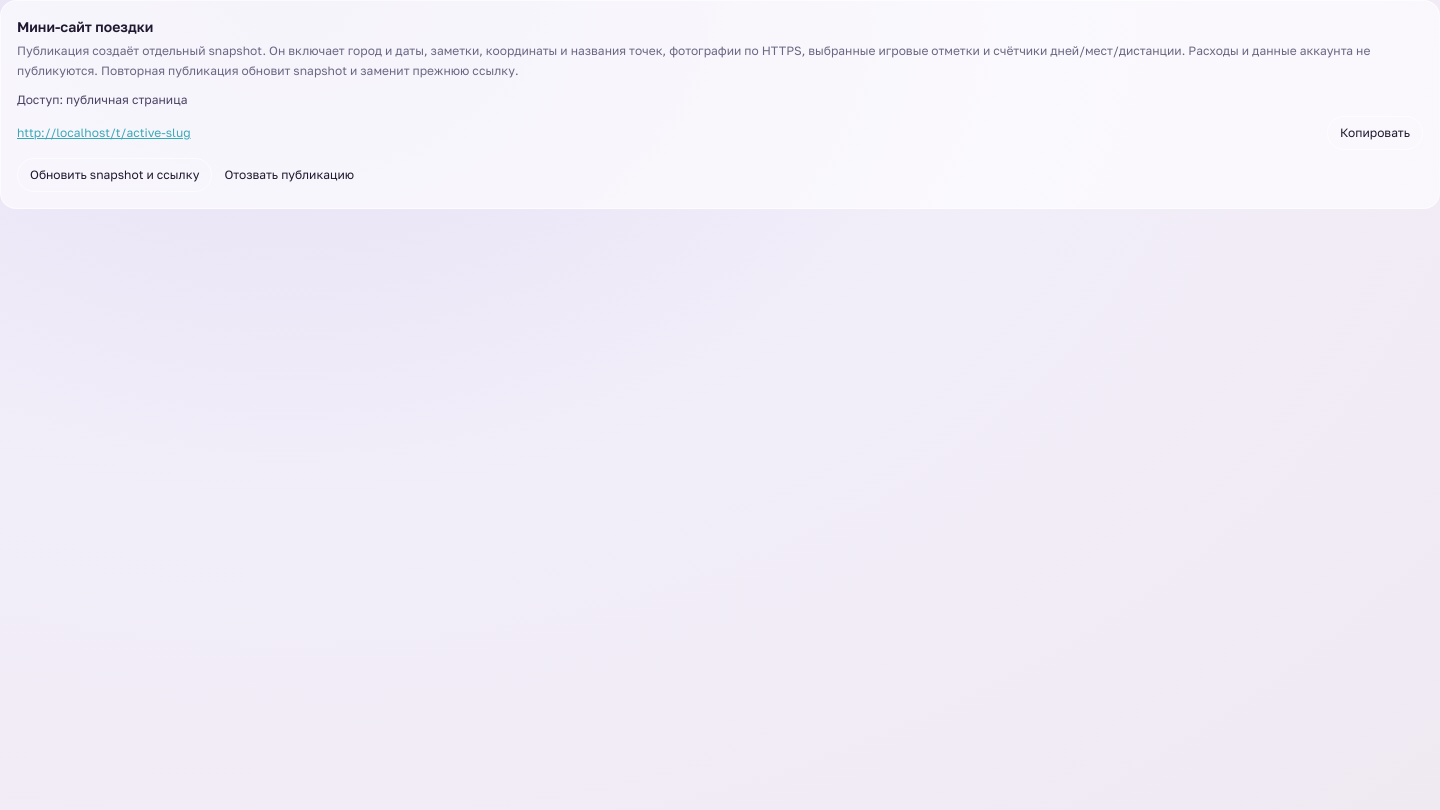
Test: TripMiniSiteControls › revokes the active public link after owner confirmation
Step 1. Click the button "Отозвать публикацию" → click(289, 175), box [212,159,366,191]
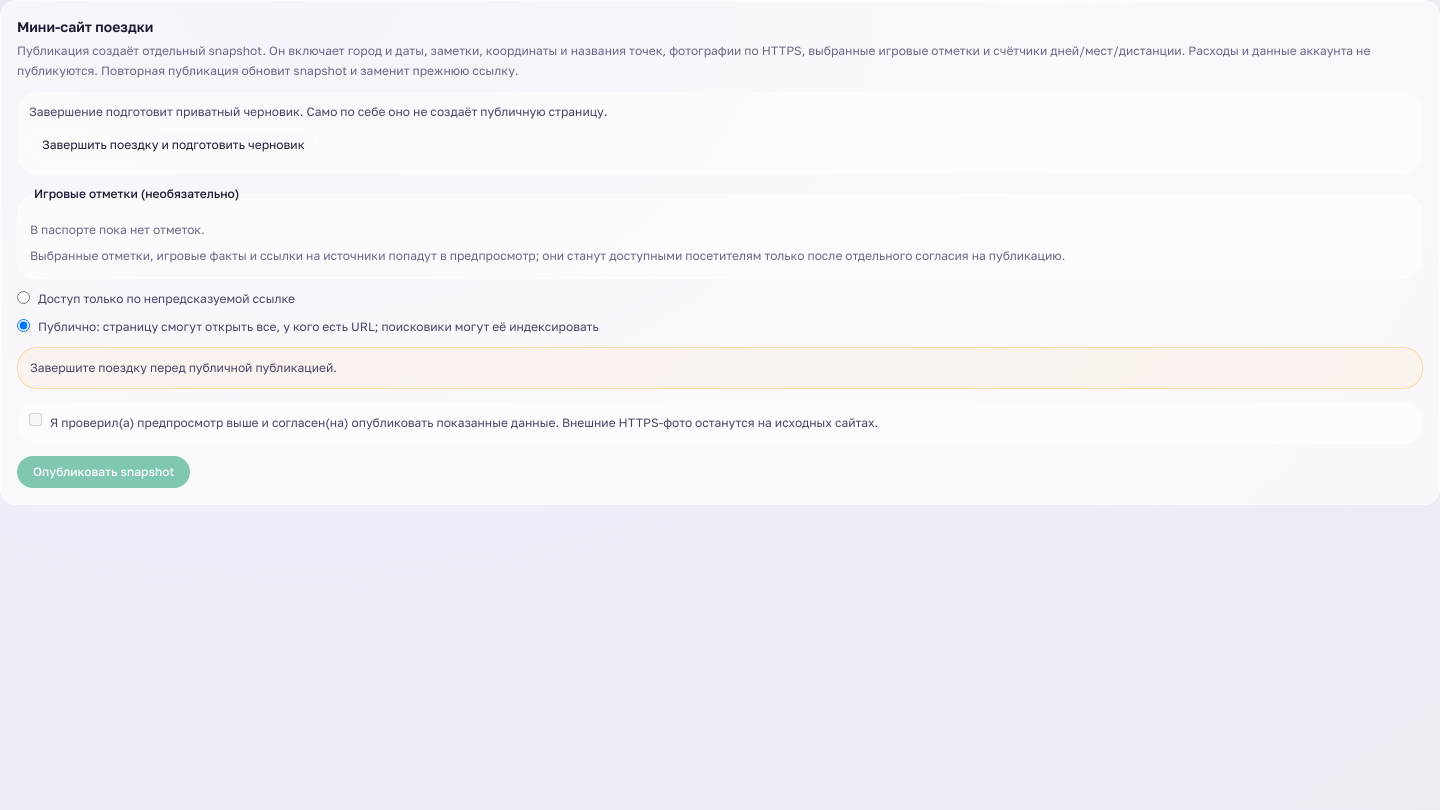
Check: the button "Опубликовать snapshot" is disabled, box [17,456,190,488]
